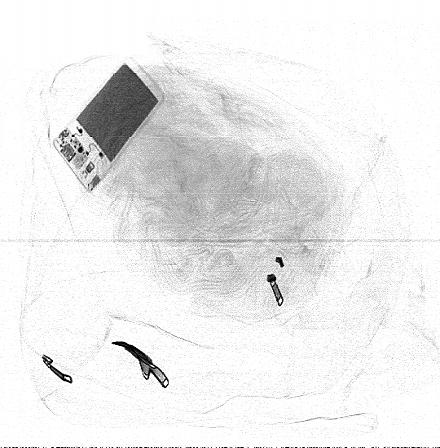Powerbank: (51, 57, 165, 194)
